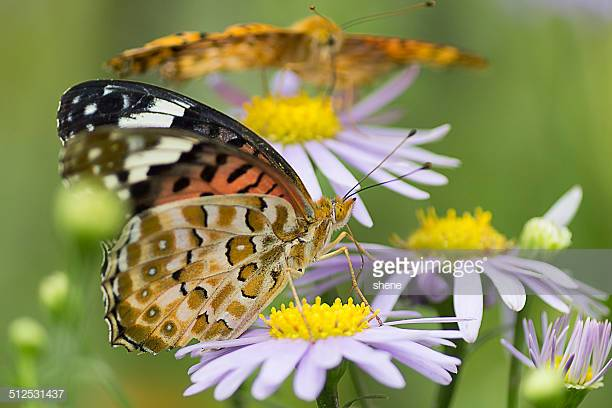Argyreus hyperbius: (46, 71, 431, 354)
butterfly: (48, 73, 433, 356)
